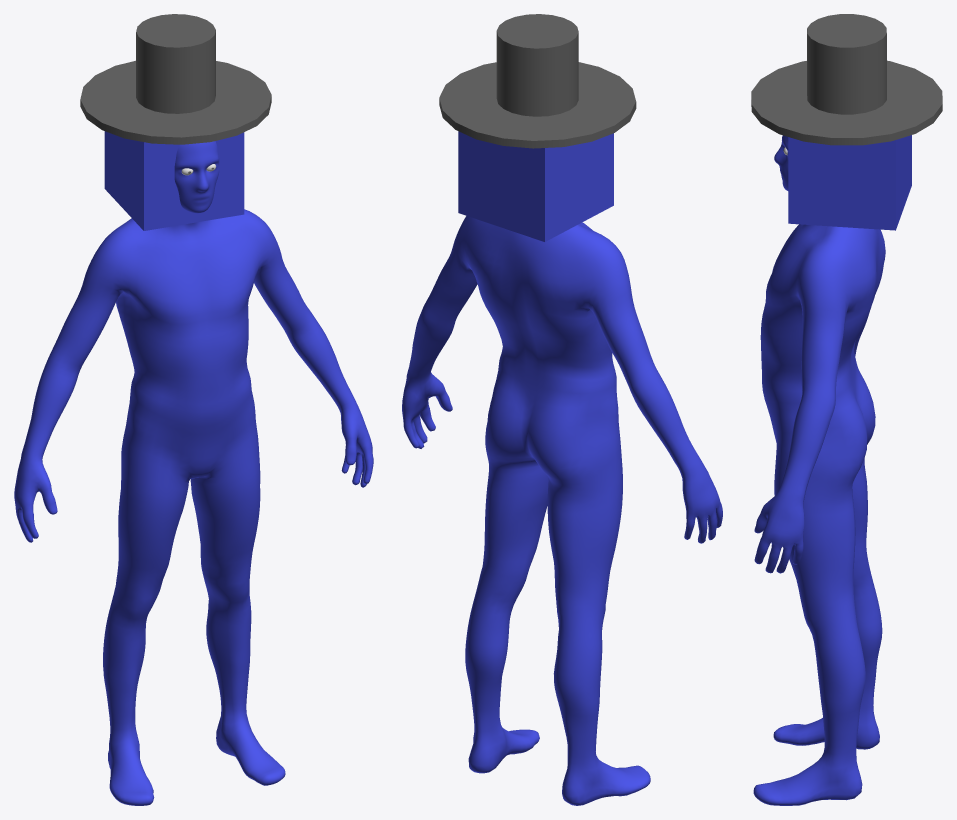
Rendered from Jimbo.fbx.
3 views of the same model, side by side, from view 1: azimuth 30°, elevation 25°; view 2: azimuth 150°, elevation 25°; view 3: azimuth 270°, elevation 25° (orthographic). The views are drawn at different scales.
Parts seen in each view (by area): view 1: Jimbo:humanBody, Jimbo:pasted__pCylinder1, Jimbo:pCube1, Jimbo:pCylinder1; view 2: Jimbo:humanBody, Jimbo:pCube1, Jimbo:pasted__pCylinder1, Jimbo:pCylinder1; view 3: Jimbo:humanBody, Jimbo:pCube1, Jimbo:pasted__pCylinder1, Jimbo:pCylinder1.
Boxes of the visible parts, x1,y1,x2,y2 form: Jimbo:humanBody: [14, 141, 373, 805]; Jimbo:pasted__pCylinder1: [80, 60, 271, 144]; Jimbo:pCube1: [104, 131, 244, 230]; Jimbo:pCylinder1: [136, 14, 215, 113]; Jimbo:humanBody: [402, 216, 722, 805]; Jimbo:pCube1: [458, 131, 613, 241]; Jimbo:pasted__pCylinder1: [439, 62, 636, 148]; Jimbo:pCylinder1: [496, 14, 578, 116]; Jimbo:humanBody: [753, 135, 885, 805]; Jimbo:pCube1: [788, 135, 911, 230]; Jimbo:pasted__pCylinder1: [751, 60, 942, 145]; Jimbo:pCylinder1: [807, 14, 886, 114].
Size of the model in its own units: 94.4 by 203 by 47.46.
